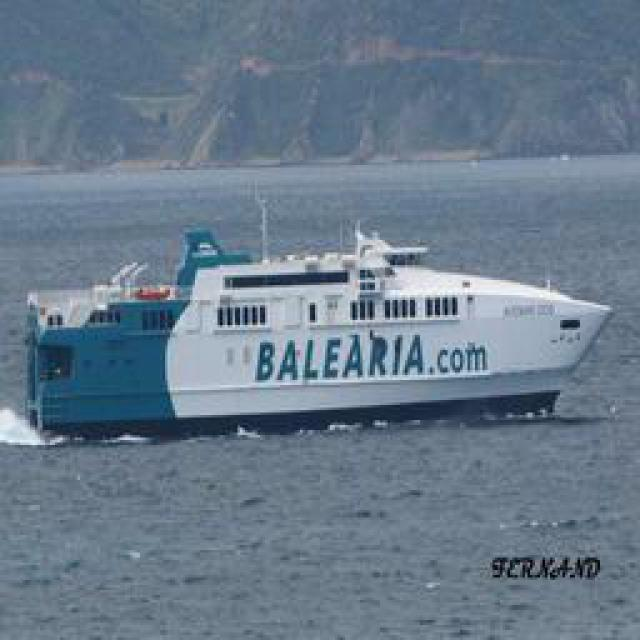Ship: (28, 209, 606, 434)
